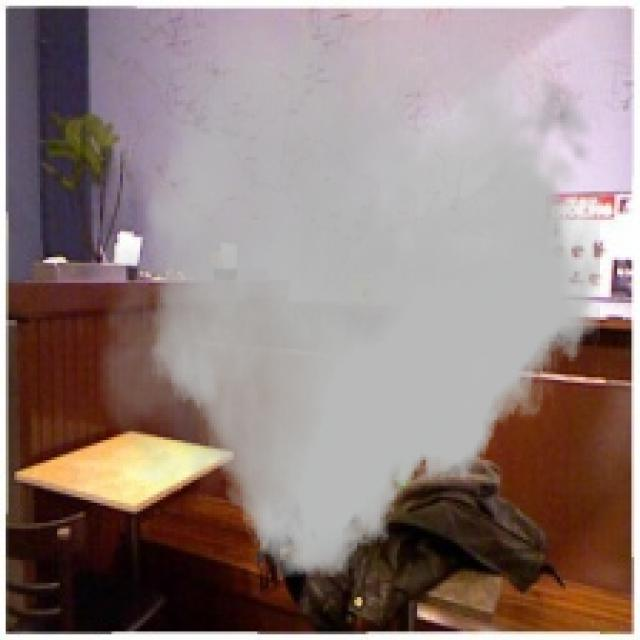smoke: (86, 20, 608, 577)
